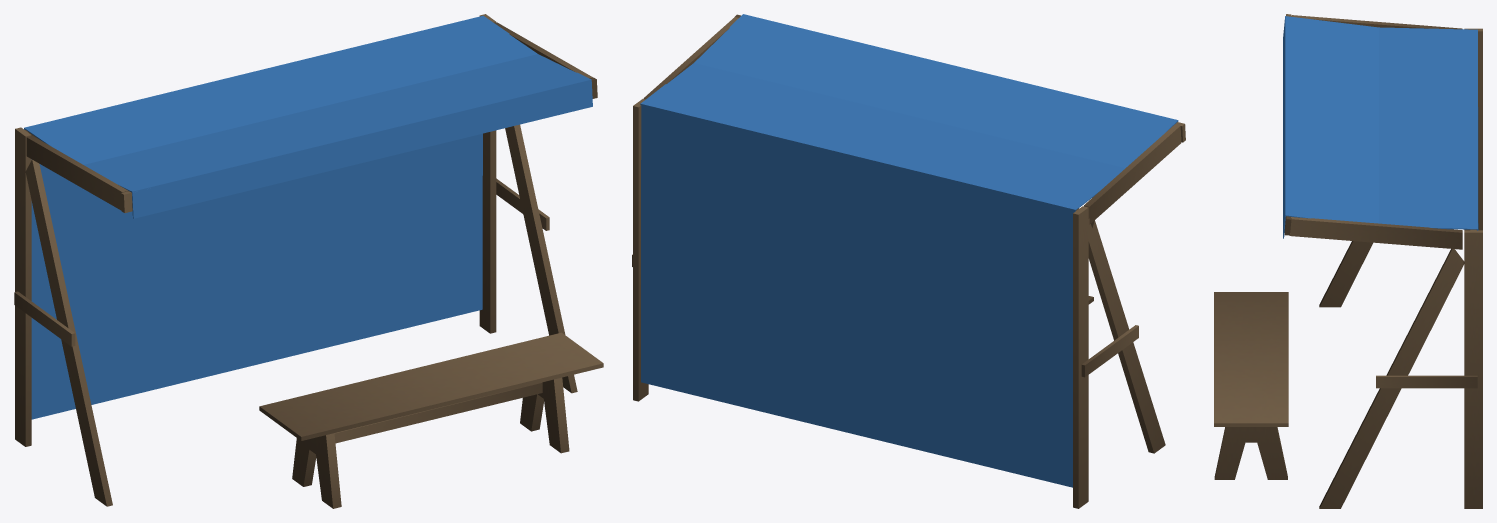
File: ZLP_Build_D_13.FBX
The picture shows the model from 3 angles, left to right: view 1: azimuth 30°, elevation 25°; view 2: azimuth 150°, elevation 25°; view 3: azimuth 270°, elevation 25°; orthographic projection. The views are drawn at different scales.
Parts seen in each view (by area): view 1: ZLP_Build_D_13; view 2: ZLP_Build_D_13; view 3: ZLP_Build_D_13.
Boxes of the visible parts, x1,y1,x2,y2 form: ZLP_Build_D_13: (14, 14, 603, 508); ZLP_Build_D_13: (632, 14, 1185, 508); ZLP_Build_D_13: (1214, 14, 1482, 508).
Bounding box in the file's own units: 222 × 145 × 122.
